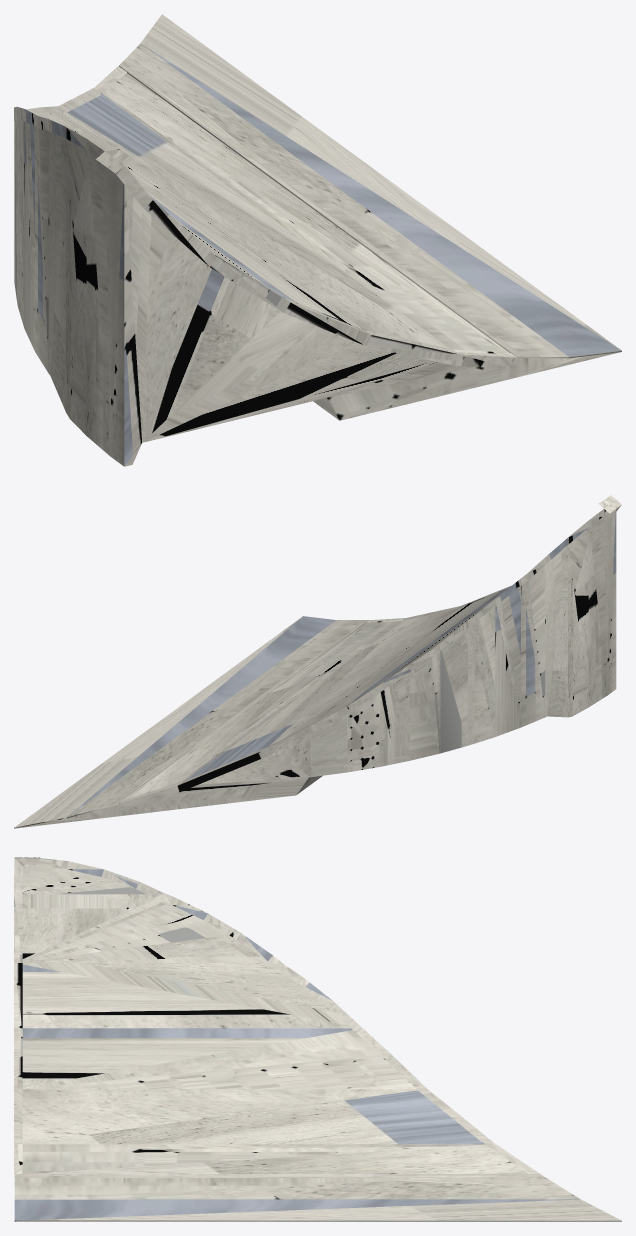
The model's file is cross-ramp-98l.gltf.
The picture shows the model from 3 angles, top to bottom: view 1: azimuth 30°, elevation 25°; view 2: azimuth 150°, elevation 25°; view 3: azimuth 270°, elevation 25°; orthographic projection. The views are drawn at different scales.
Visible parts, largest first — view 1: SK1227_Cross-Ramp-_98L.001; view 2: SK1227_Cross-Ramp-_98L.001; view 3: SK1227_Cross-Ramp-_98L.001.
Part boxes in pixels (x1,y1,x2,y2): SK1227_Cross-Ramp-_98L.001: (14,14,621,466); SK1227_Cross-Ramp-_98L.001: (14,495,621,828); SK1227_Cross-Ramp-_98L.001: (14,857,621,1221).
Bounding box in the file's own units: 1.59 × 0.94 × 2.5.
